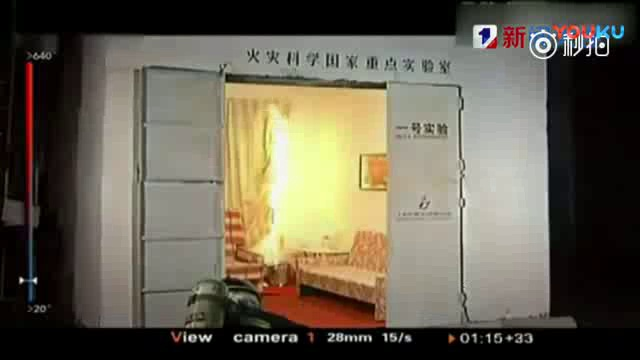fire: (258, 101, 290, 271)
